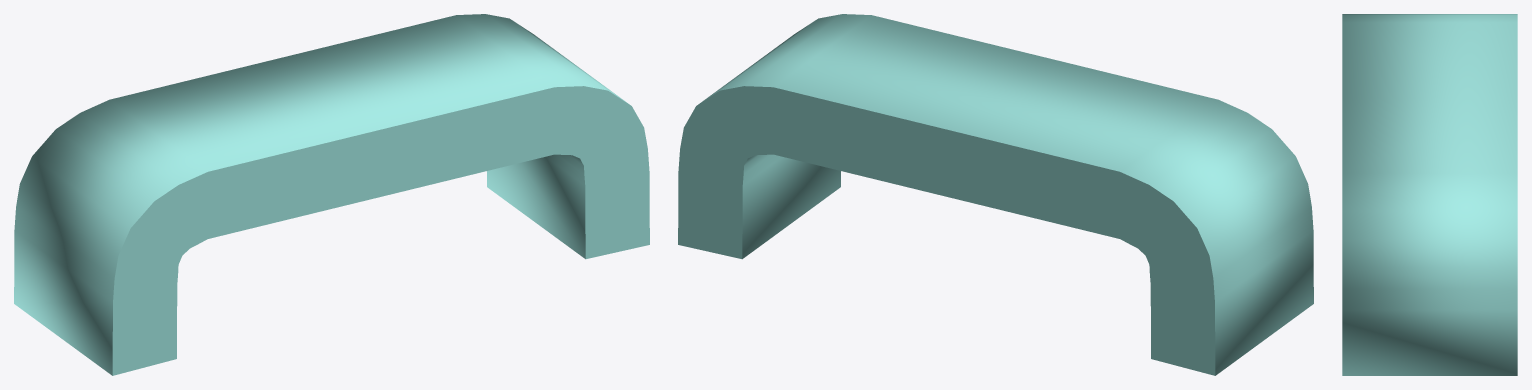
Rendered from banco.fbx.
3 renders of one model, left to right at view 1: azimuth 30°, elevation 25°; view 2: azimuth 150°, elevation 25°; view 3: azimuth 270°, elevation 25°, orthographic. The views are drawn at different scales.
Parts seen in each view (by area): view 1: Cube; view 2: Cube; view 3: Cube.
Boxes of the visible parts, x1,y1,x2,y2 form: Cube: [14, 14, 649, 375]; Cube: [678, 14, 1313, 375]; Cube: [1342, 14, 1517, 375].
Size of the model in its own units: 310 by 99.68 by 98.4.
